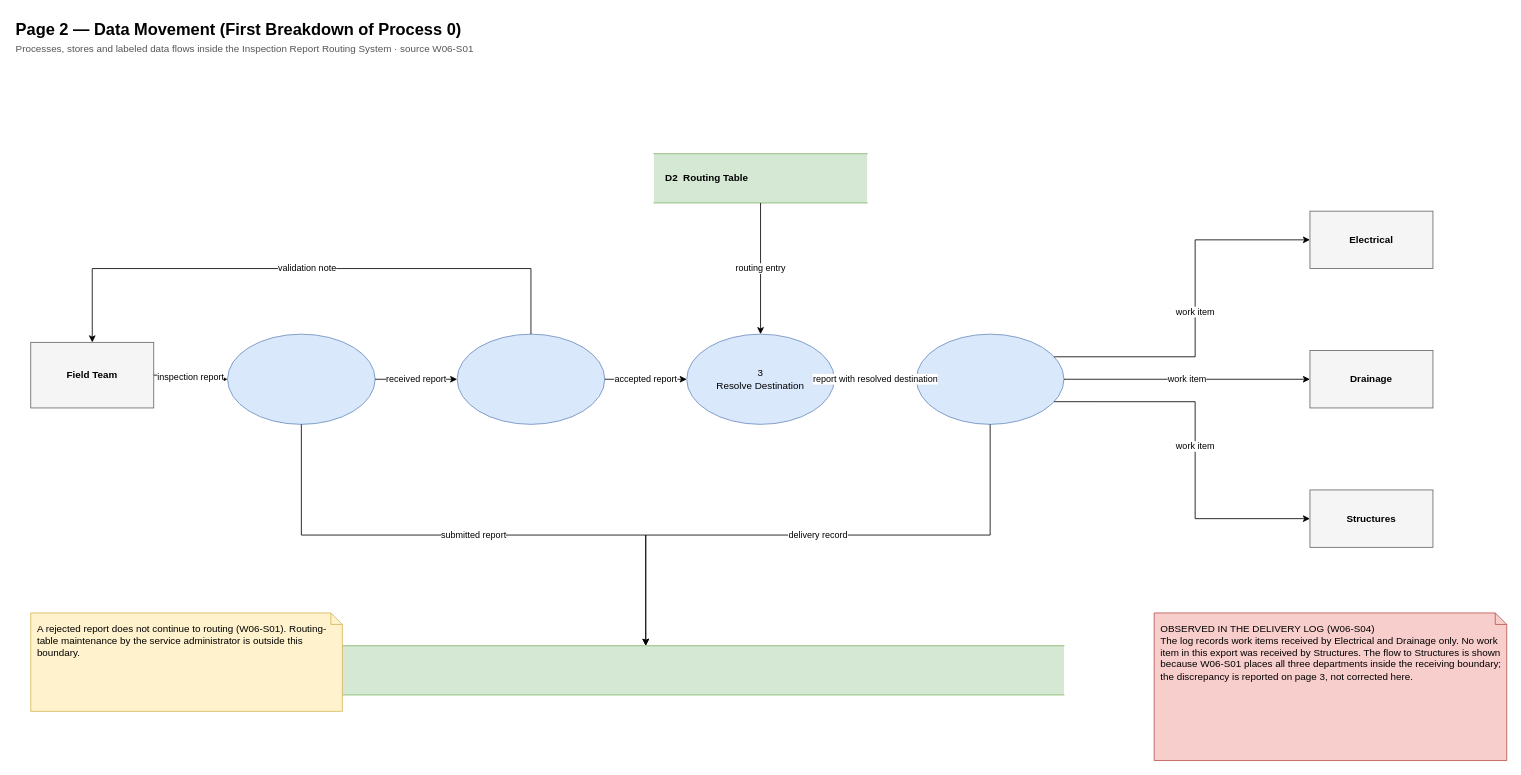
The diagram is 1521 pixels wide and 775 high, and some of its shapes have lost their labels. Here are the shapes that lost their labels. From the top down, the centre of each, then its label:
the point at 301,378: 1 Receive Report
the point at 530,378: 2 Check Required Fields
the point at 990,378: 4 Send Work Item
